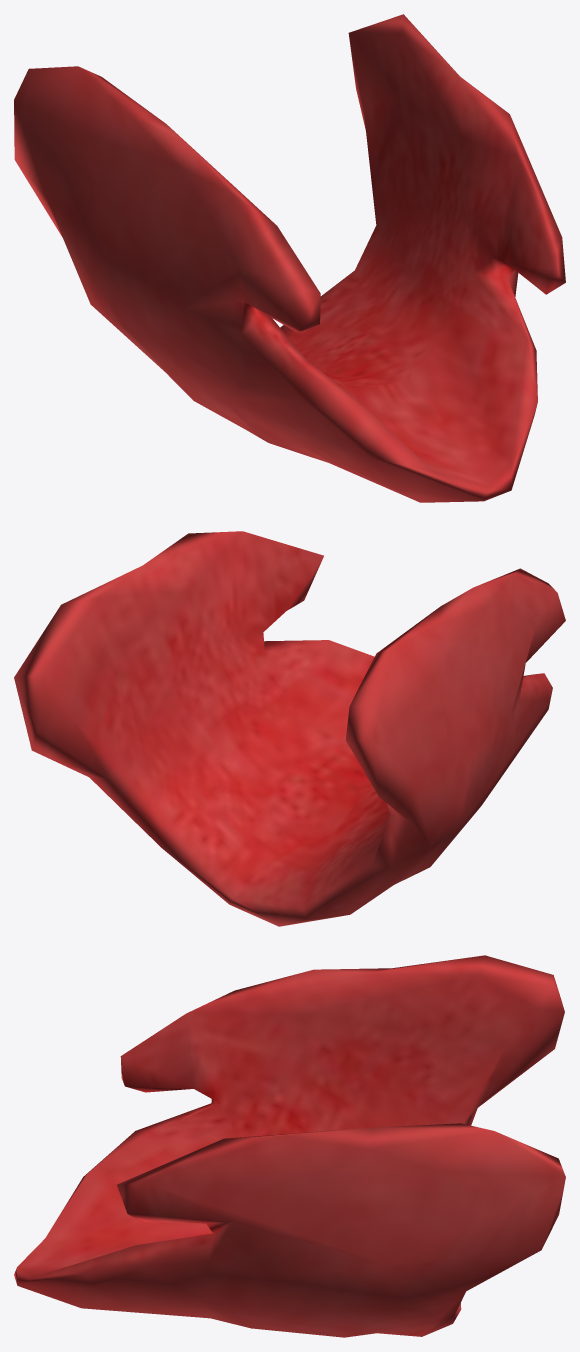
Rendered from Laryngeal_Cartilages_Thyroid.glb.
3 views of the same model, one above another, from view 1: azimuth 30°, elevation 25°; view 2: azimuth 150°, elevation 25°; view 3: azimuth 270°, elevation 25° (orthographic). The views are drawn at different scales.
Visible parts, largest first — view 1: laryngeal_cartilages_thyroid.001; view 2: laryngeal_cartilages_thyroid.001; view 3: laryngeal_cartilages_thyroid.001.
Part boxes in pixels (x1,y1,x2,y2): laryngeal_cartilages_thyroid.001: (14, 14, 565, 502); laryngeal_cartilages_thyroid.001: (14, 531, 565, 926); laryngeal_cartilages_thyroid.001: (14, 955, 565, 1337).
Size of the model in its own units: 0.0563 by 0.0503 by 0.0809.
Materials: 1 (1 with a texture image).
